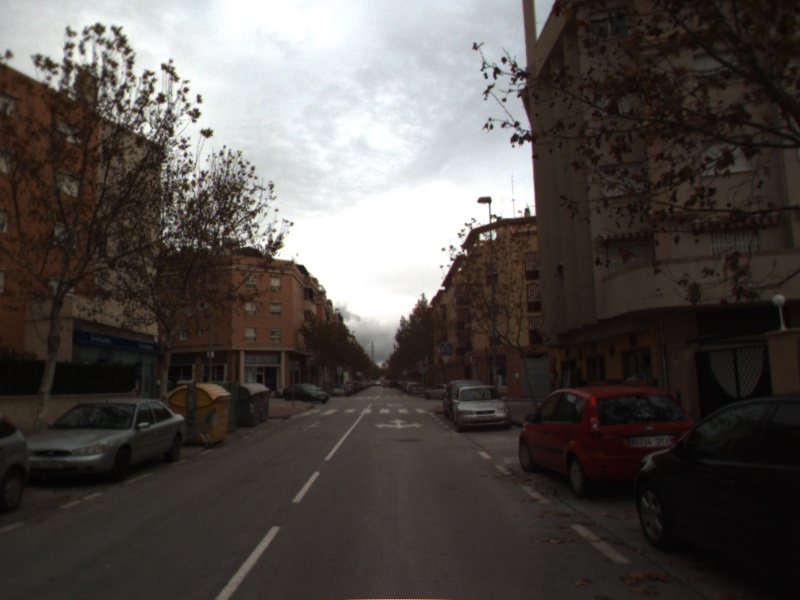STRAIGHT_LEFT_RIGHT: (372, 416, 426, 431)
